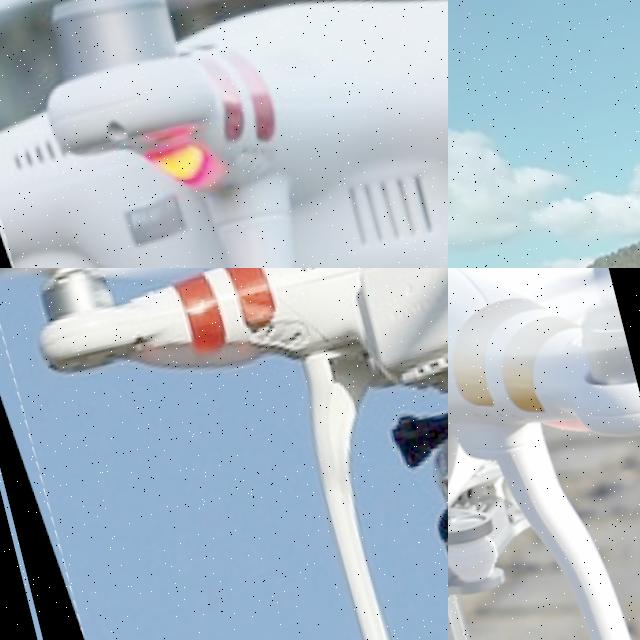0: (0, 268, 448, 640), (0, 0, 448, 268)
drone: (448, 268, 640, 640)
